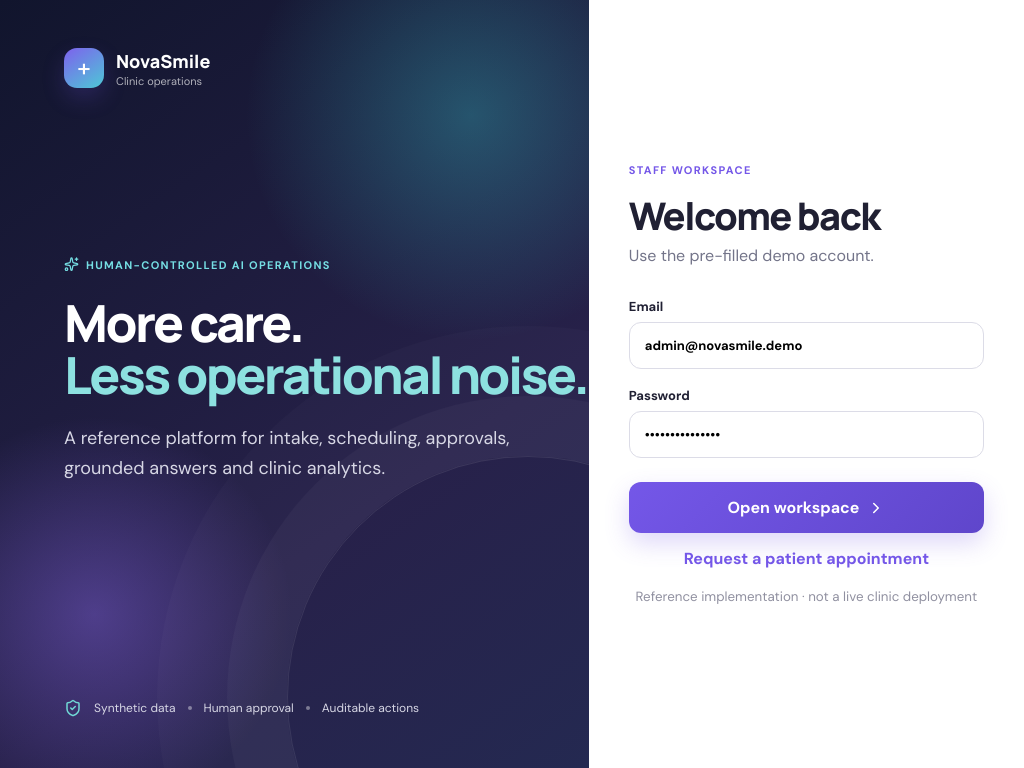
Test case: clinic web application › opens the public patient intake form
This screenshot has width=1024, height=768.
Click the button "Request a patient appointment".
click(806, 558)  # box [678,547,935,570]
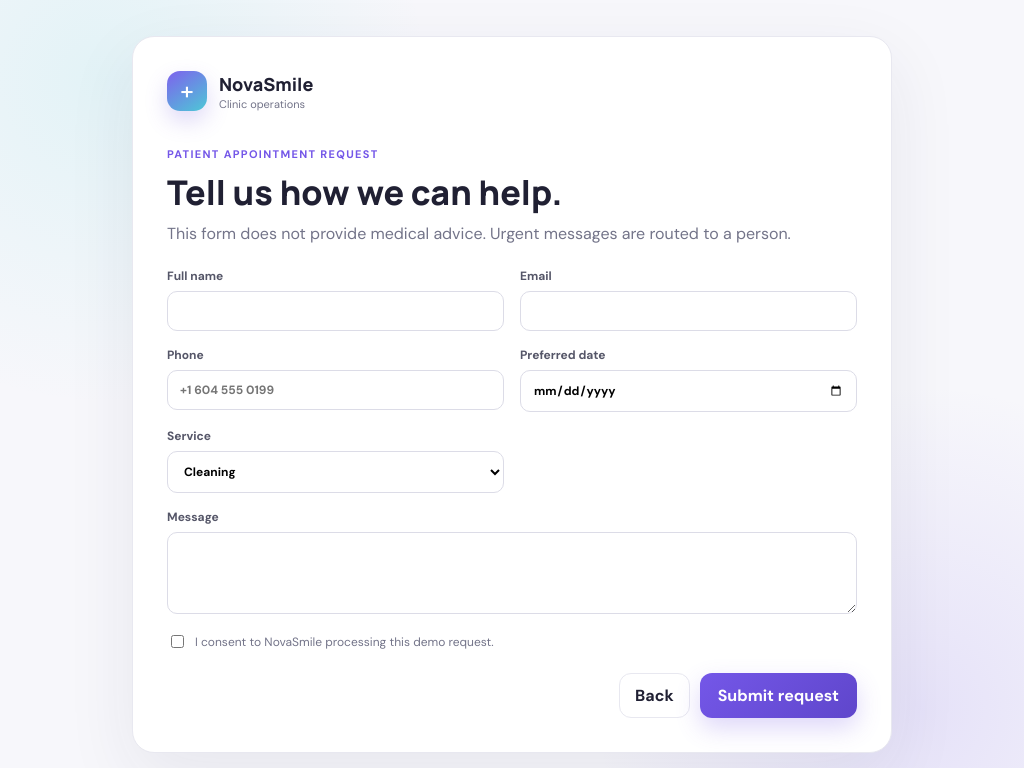
Result: the heading "Tell us how we can help." is shown at [167,169,562,215]
